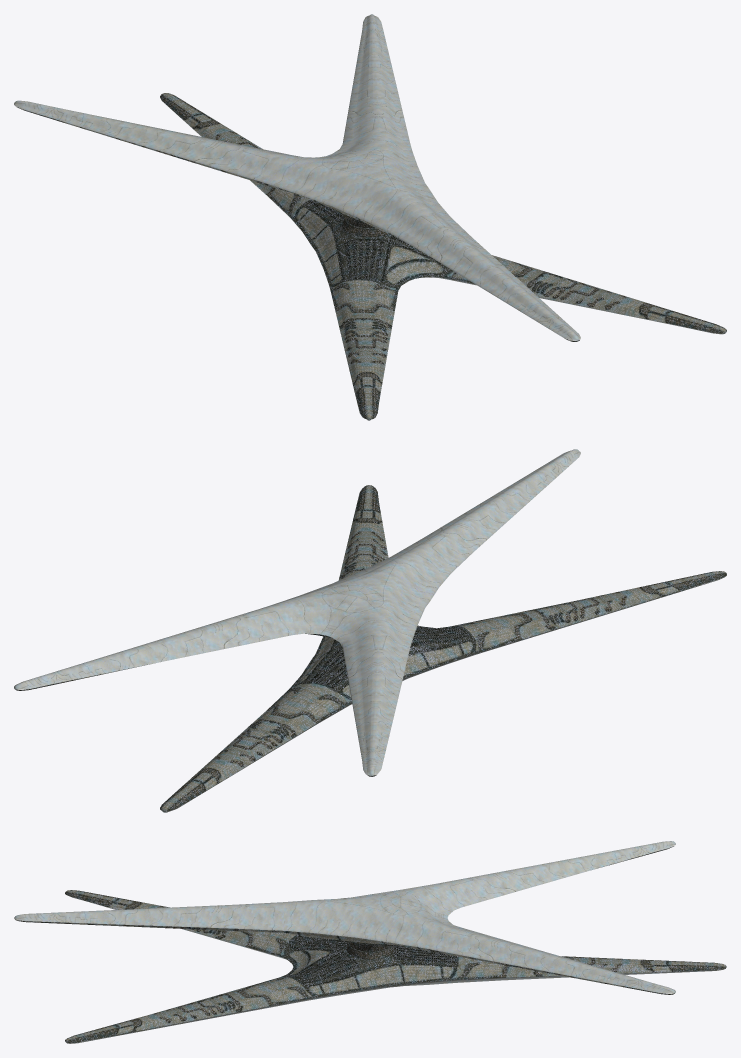
The picture shows the model from 3 angles, top to bottom: view 1: azimuth 30°, elevation 25°; view 2: azimuth 150°, elevation 25°; view 3: azimuth 270°, elevation 25°; orthographic projection. The views are drawn at different scales.
Parts seen in each view (by area): view 1: cylbstr1co_2 (×2); view 2: cylbstr1co_2 (×2); view 3: cylbstr1co_2 (×2).
Boxes of the visible parts, box(x1,y1,x2,y2) form: cylbstr1co_2 (×2): box(14, 14, 726, 420); cylbstr1co_2 (×2): box(14, 449, 726, 812); cylbstr1co_2 (×2): box(14, 841, 726, 1043).
Bounding box in the file's own units: 30427 × 60234 × 7799.
Materials: 3 (1 with a texture image).
